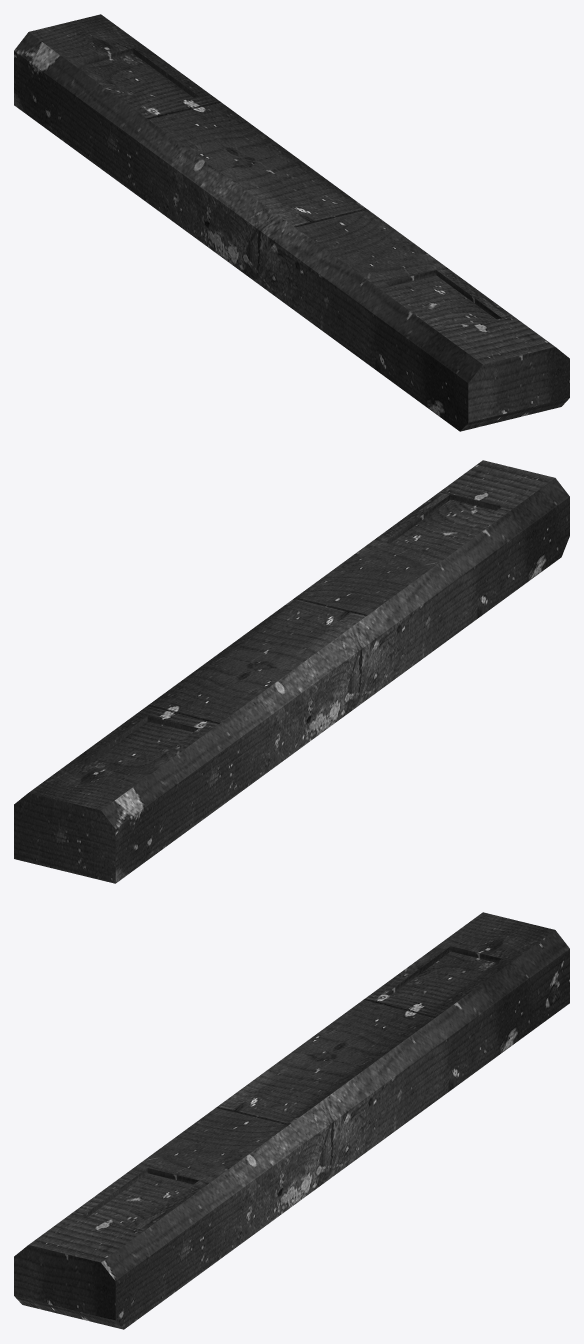
Rendered from Shpala.FBX.
The picture shows the model from 3 angles, top to bottom: view 1: azimuth 30°, elevation 25°; view 2: azimuth 150°, elevation 25°; view 3: azimuth 330°, elevation 25°; orthographic projection.
Visible parts, largest first — view 1: Box01; view 2: Box01; view 3: Box01.
Part boxes in pixels (<box>): Box01: <box>14,14,569,431</box>; Box01: <box>14,460,569,883</box>; Box01: <box>14,912,569,1329</box>.
Bounding box in the file's own units: 35.98 × 23.6 × 279.
Materials: 1 (1 with a texture image).
